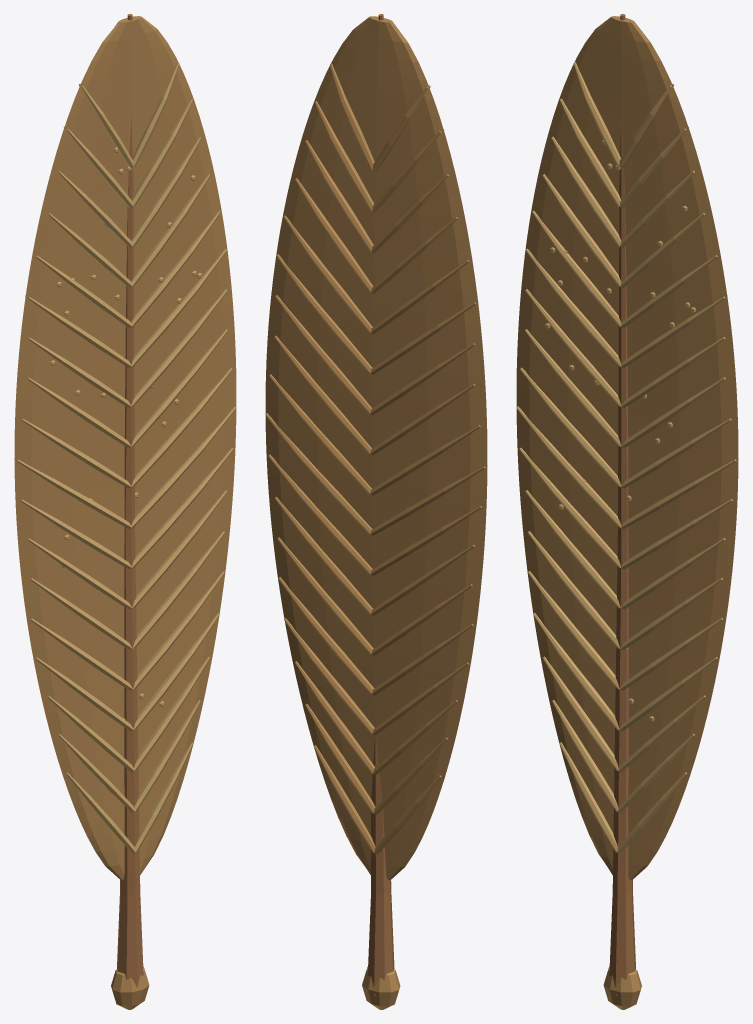
3 renders of one model, left to right at view 1: azimuth 30°, elevation 25°; view 2: azimuth 150°, elevation 25°; view 3: azimuth 330°, elevation 25°, orthographic.
Parts seen in each view (by area): view 1: continuous_common_base_frond_lamina, front_oblique_connected_lateral_relief, central_axis_and_short_blunt_attachment, blunt_basal_attachment, front_only_uncertain_pustules; view 2: continuous_common_base_frond_lamina, rear_oblique_connected_lateral_relief, central_axis_and_short_blunt_attachment, blunt_basal_attachment; view 3: continuous_common_base_frond_lamina, front_oblique_connected_lateral_relief, central_axis_and_short_blunt_attachment, blunt_basal_attachment, front_only_uncertain_pustules.
Boxes of the visible parts, x1=… form: continuous_common_base_frond_lamina: x1=14, y1=16, x2=236, y2=879; front_oblique_connected_lateral_relief: x1=16, y1=62, x2=236, y2=853; central_axis_and_short_blunt_attachment: x1=117, y1=14, x2=143, y2=995; blunt_basal_attachment: x1=111, y1=966, x2=149, y2=1009; front_only_uncertain_pustules: x1=50, y1=147, x2=202, y2=719; continuous_common_base_frond_lamina: x1=265, y1=16, x2=487, y2=879; rear_oblique_connected_lateral_relief: x1=265, y1=63, x2=485, y2=854; central_axis_and_short_blunt_attachment: x1=367, y1=14, x2=394, y2=995; blunt_basal_attachment: x1=362, y1=966, x2=400, y2=1009; continuous_common_base_frond_lamina: x1=516, y1=16, x2=738, y2=879; front_oblique_connected_lateral_relief: x1=516, y1=62, x2=736, y2=853; central_axis_and_short_blunt_attachment: x1=609, y1=14, x2=635, y2=995; blunt_basal_attachment: x1=603, y1=966, x2=641, y2=1009; front_only_uncertain_pustules: x1=545, y1=140, x2=695, y2=721.
Bounding box in the file's own units: 0.0491 × 0.2099 × 0.00707.
